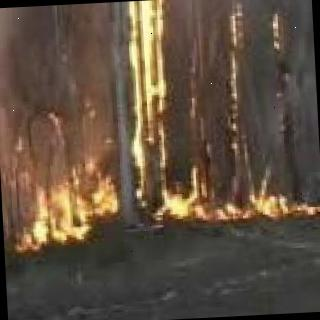fire: (123, 0, 206, 221), (0, 137, 122, 252), (225, 190, 320, 224)
